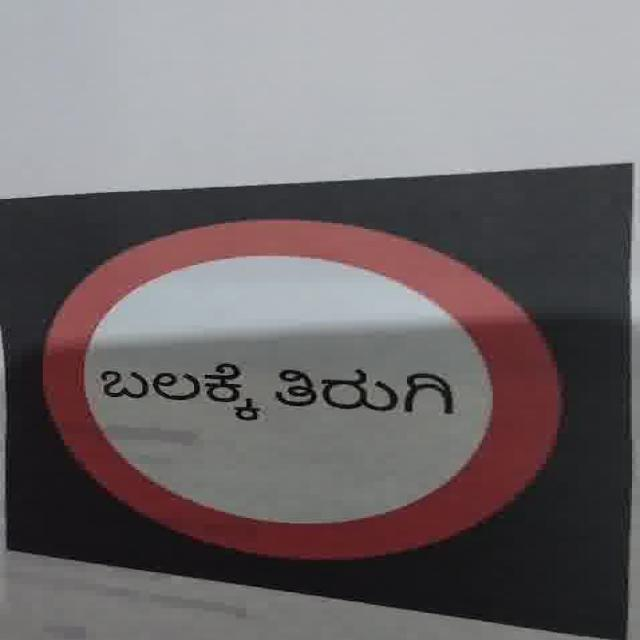kannadaright: (40, 216, 565, 560), (95, 361, 459, 420), (270, 366, 457, 415), (96, 361, 246, 403)
